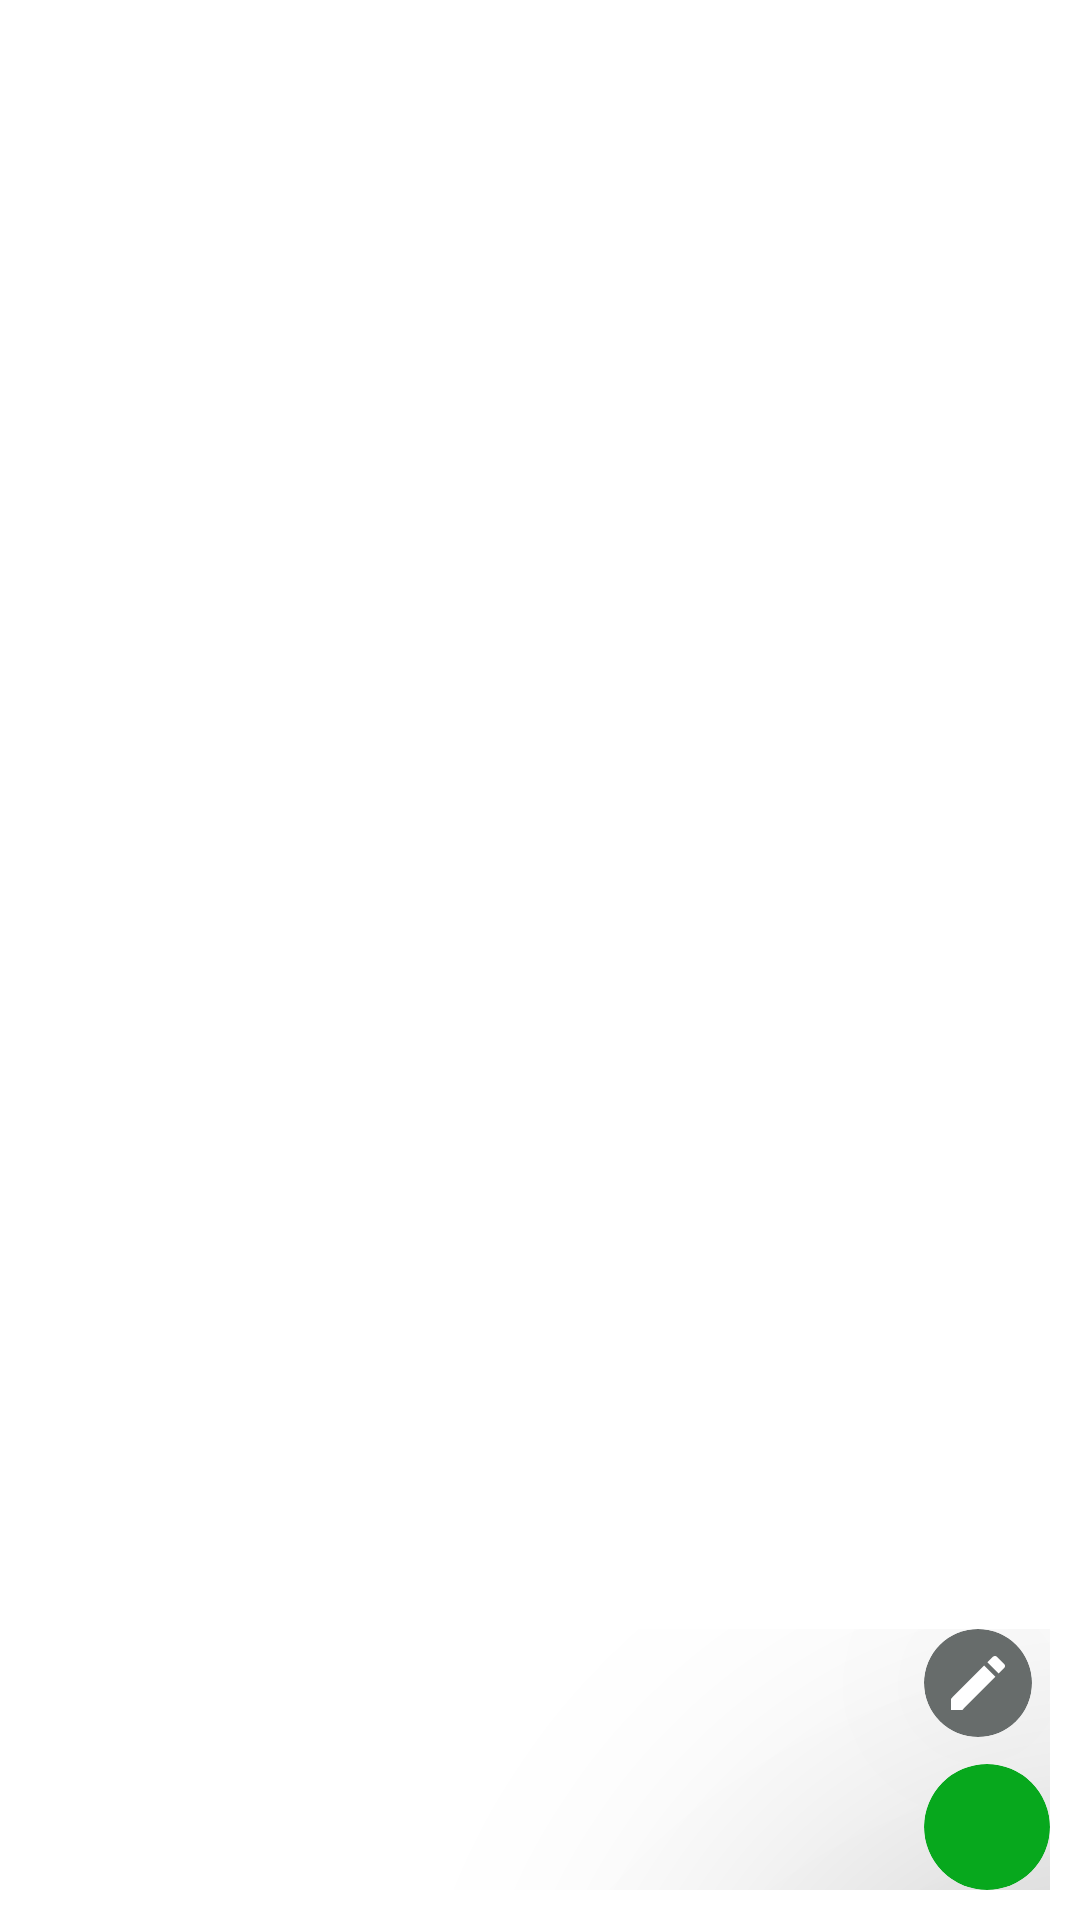

Icons on this 1080px x 1920px Android screen, each with its box as rect(x1, y1, x2, y2):
edit: rect(951, 1656, 1005, 1710)
